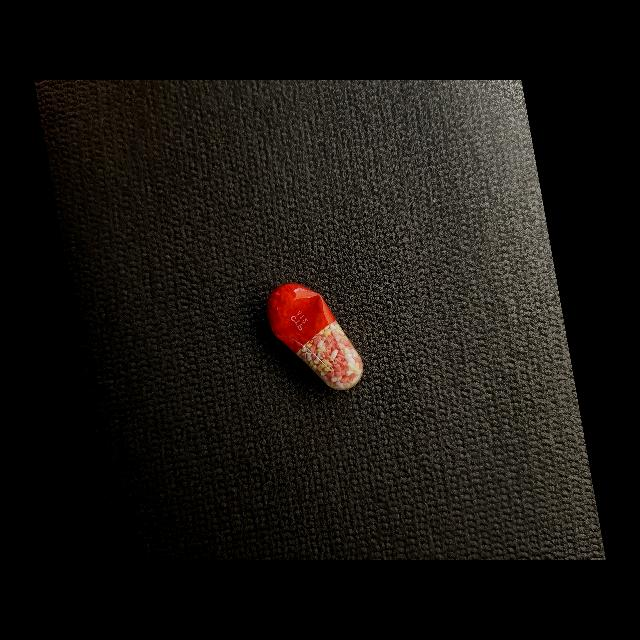Defective Capsule: (266, 283, 363, 390)
